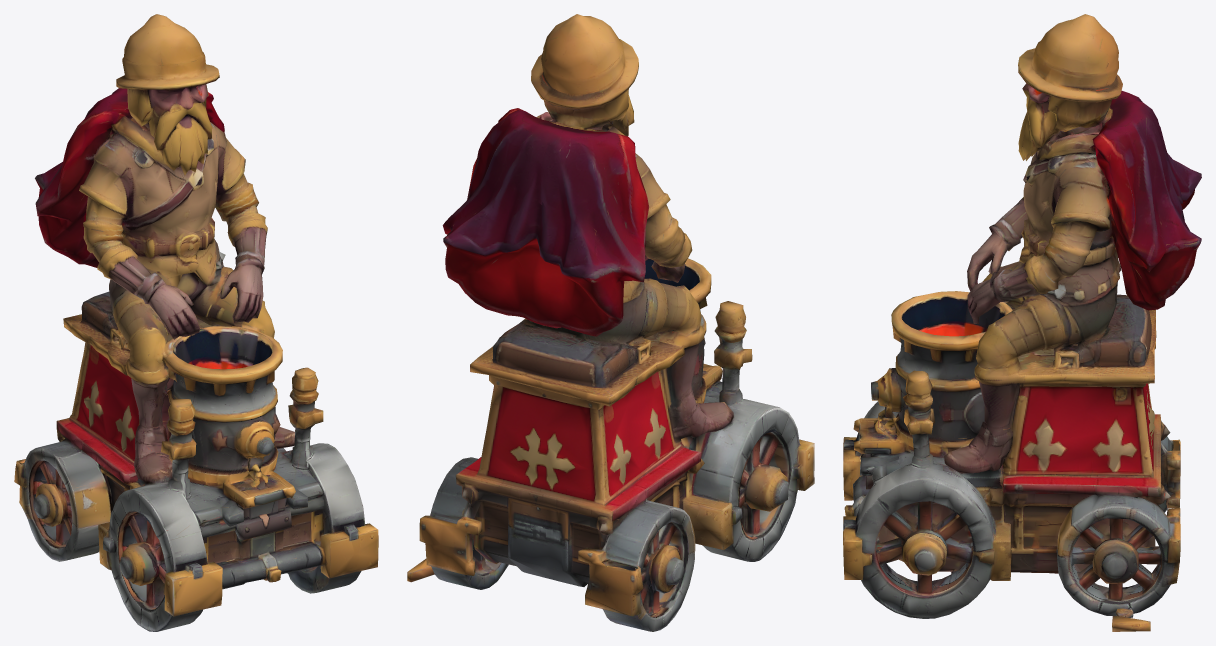
File: siege.glb
3 renders of one model, left to right at view 1: azimuth 30°, elevation 25°; view 2: azimuth 150°, elevation 25°; view 3: azimuth 270°, elevation 25°, orthographic. The views are drawn at different scales.
Visible parts, largest first — view 1: Mesh_0; view 2: Mesh_0; view 3: Mesh_0.
Part boxes in pixels (left/top/right/bottom): Mesh_0: left=14, top=14, right=378, bottom=631; Mesh_0: left=407, top=14, right=814, bottom=631; Mesh_0: left=843, top=14, right=1201, bottom=631.
Bounding box in the file's own units: 0.8982 × 1.91 × 1.12.
1 material, 1 textured.
